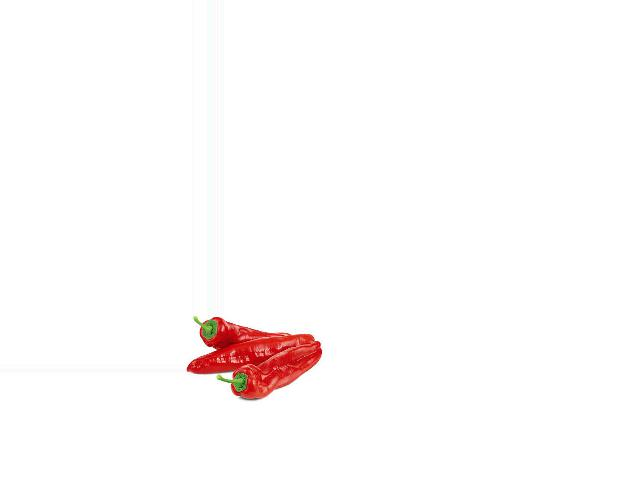bell_pepper: (214, 353, 323, 402)
